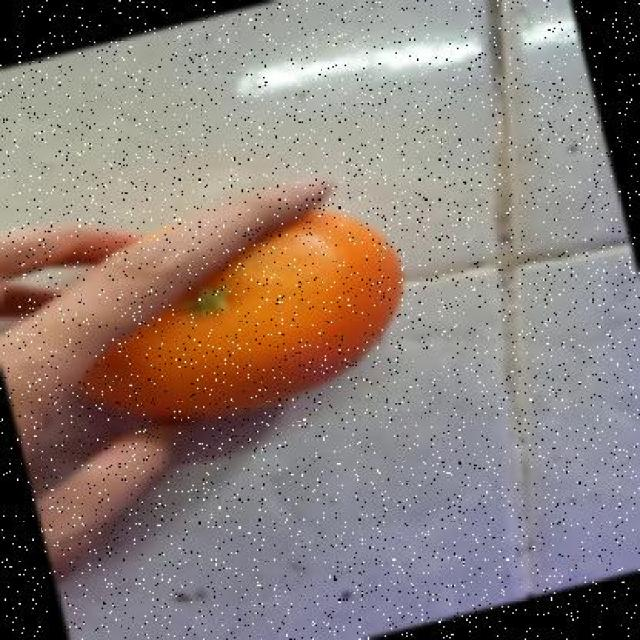Orange: (77, 202, 403, 423)
